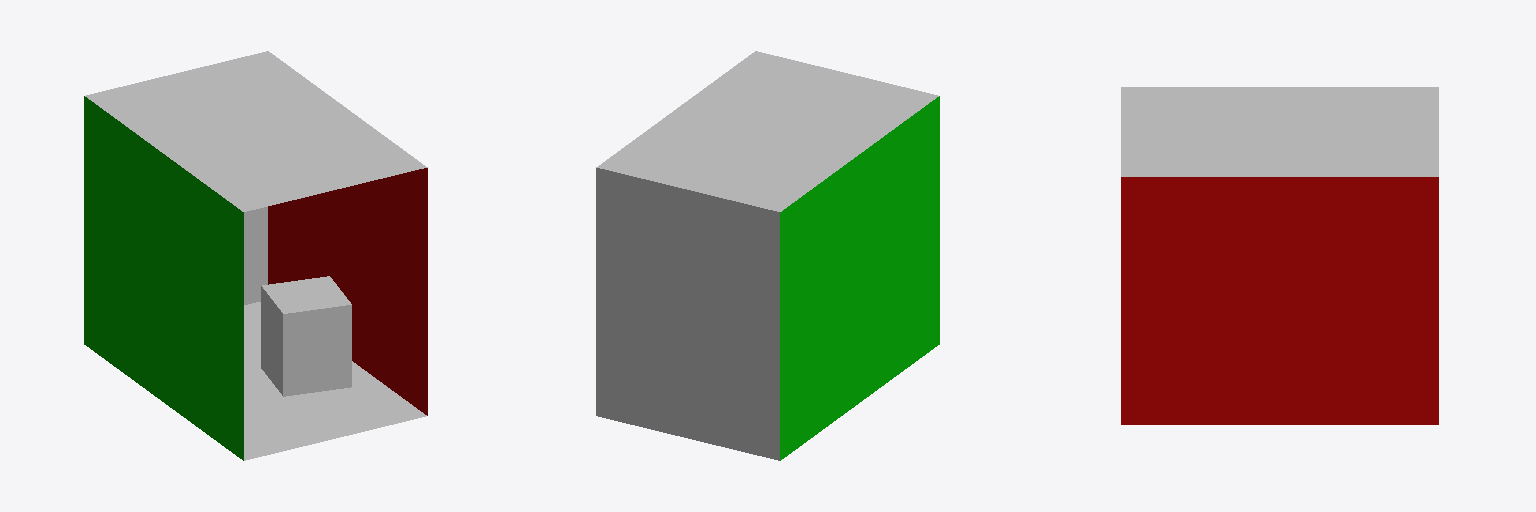
File: cornell-box.obj
3 views of the same model, side by side, from view 1: azimuth 30°, elevation 25°; view 2: azimuth 150°, elevation 25°; view 3: azimuth 270°, elevation 25° (orthographic).
Parts seen in each view (by area): view 1: Box01, Box03; view 2: Box01; view 3: Box01.
Boxes of the visible parts, x1=… form: Box01: x1=84, y1=51, x2=427, y2=460; Box03: x1=261, y1=276, x2=351, y2=396; Box01: x1=596, y1=51, x2=939, y2=460; Box01: x1=1121, y1=87, x2=1438, y2=424.
Bounding box in the file's own units: 13.25 × 17.12 × 19.88.